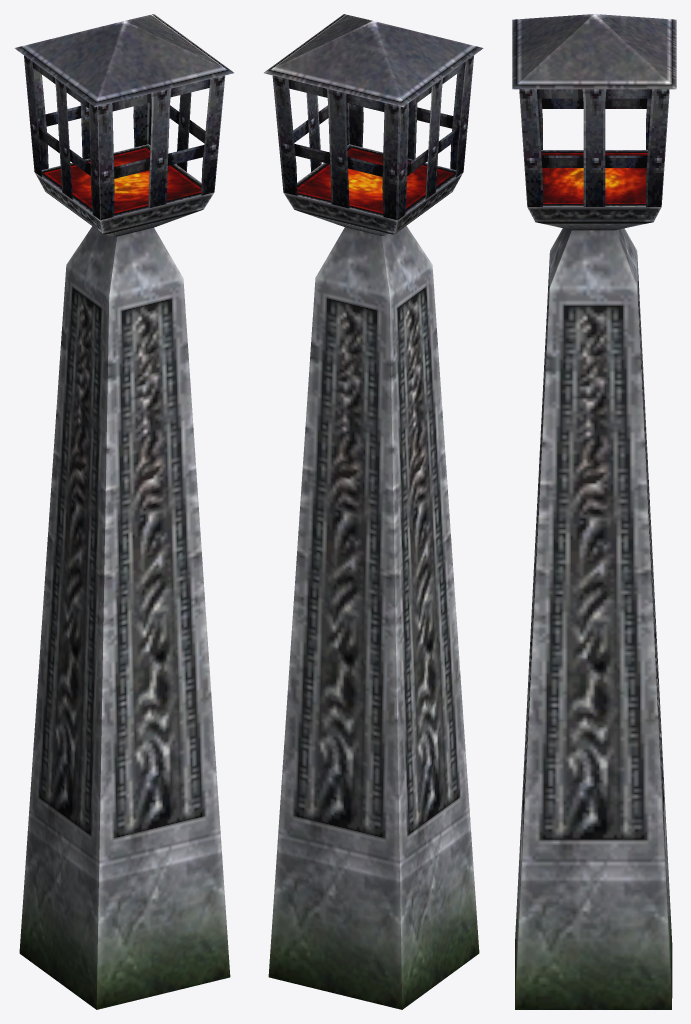
Rendered from tn3_light06.glb.
The picture shows the model from 3 angles, left to right: view 1: azimuth 30°, elevation 25°; view 2: azimuth 150°, elevation 25°; view 3: azimuth 270°, elevation 25°; orthographic projection.
Parts seen in each view (by area): view 1: tn3_light06; view 2: tn3_light06; view 3: tn3_light06.
Part boxes in pixels (box(x1,y1,x2,y2)): tn3_light06: box(14, 14, 233, 1009); tn3_light06: box(263, 14, 483, 1009); tn3_light06: box(512, 14, 676, 1009).
Size of the model in its own units: 0.4726 by 3.05 by 0.4726.
2 materials, 2 textured.
